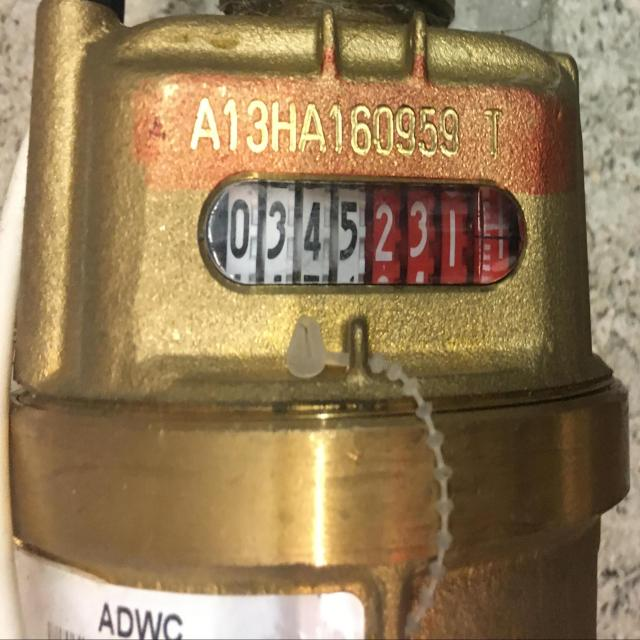gaz_meter: (32, 12, 611, 412)
indication: (217, 183, 514, 278)
